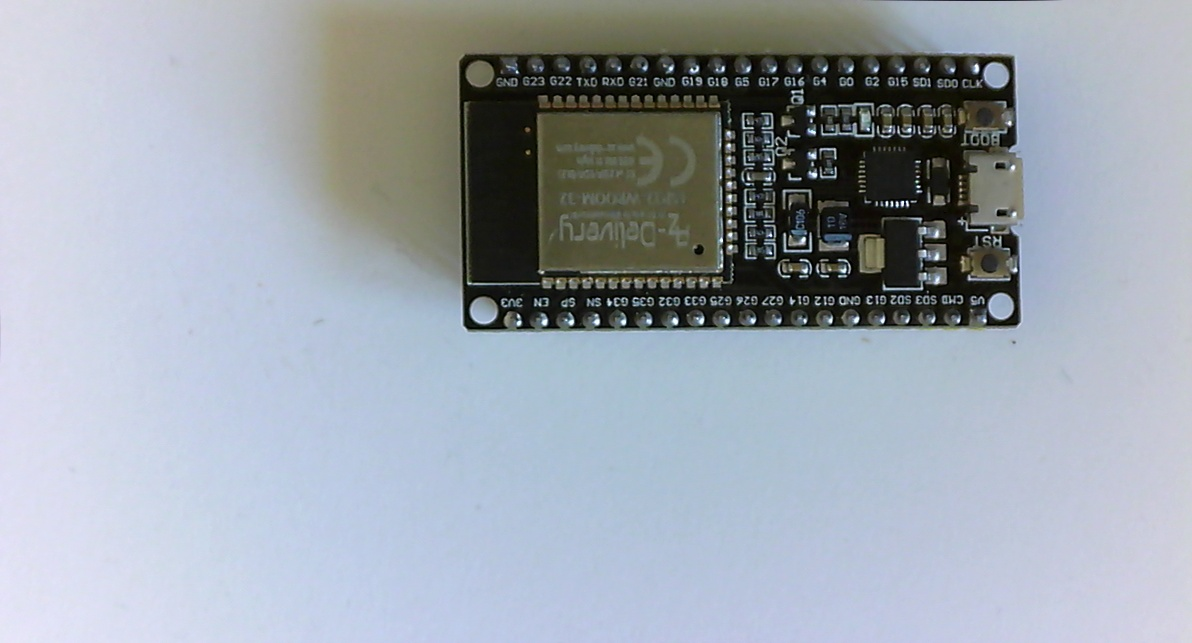esp32: (452, 48, 1032, 329)
